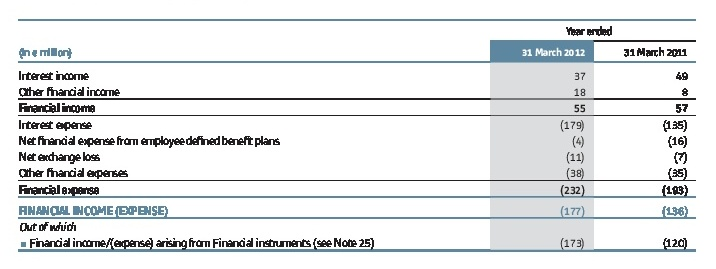table: (0, 0, 716, 269)
